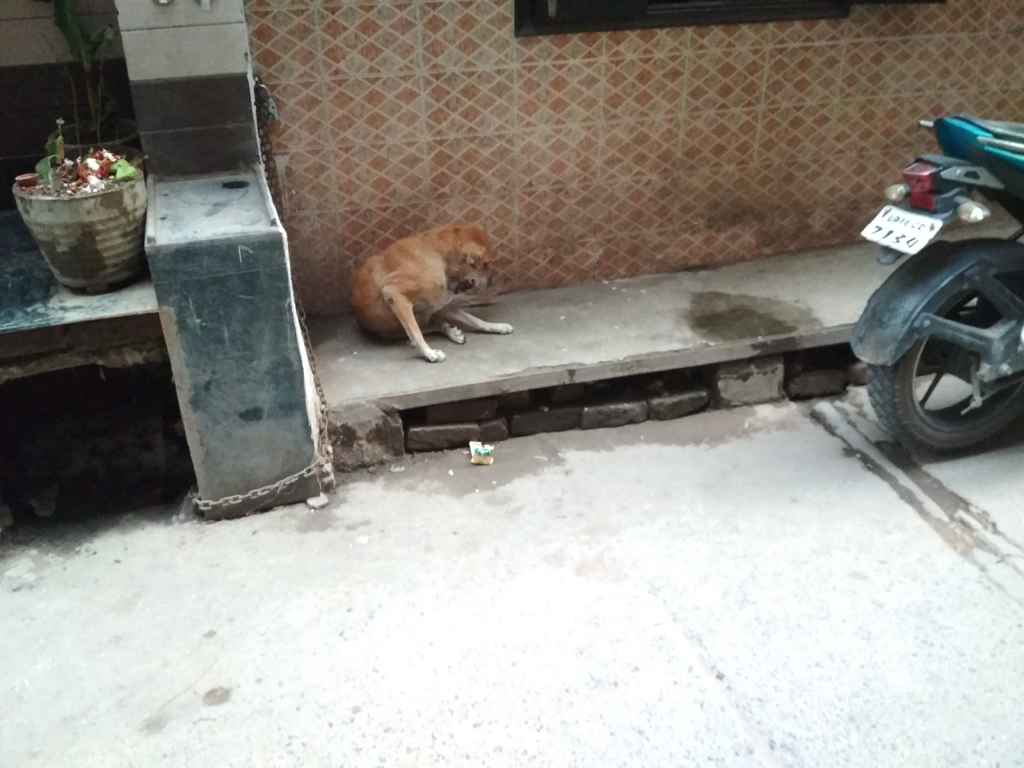dog: (346, 221, 513, 363)
